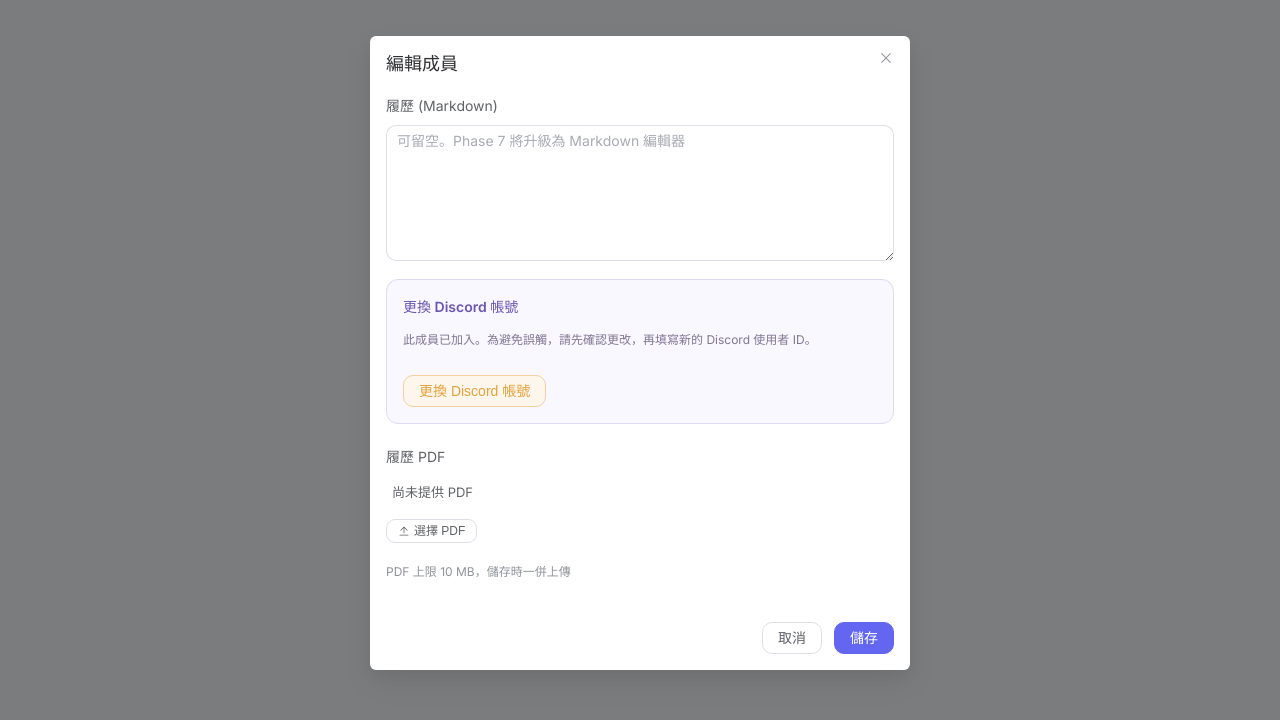
confirmed changes for joined members › requires confirmation again after closing and reopening
(page scrolled)
Step 1. Click the button with test id "confirm-discord-change" → [475, 391], box [403,375,546,407]
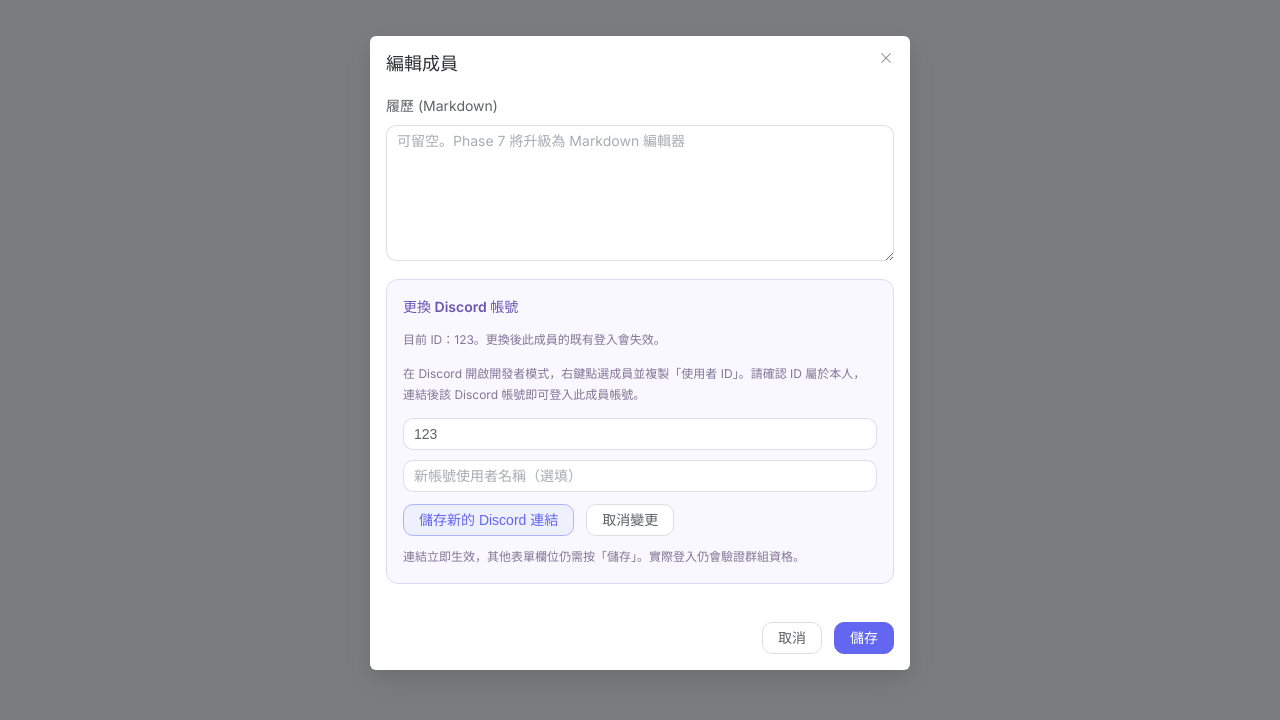
Expected: the field with test id "form-discord-id" is shown, [414,419,866,449]
